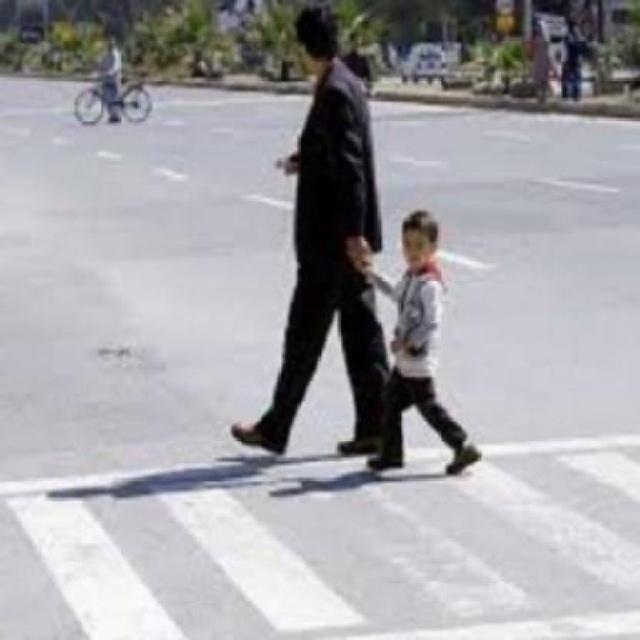Person: (228, 0, 389, 455), (368, 206, 488, 479)
